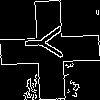Y: (25, 25, 72, 61)
